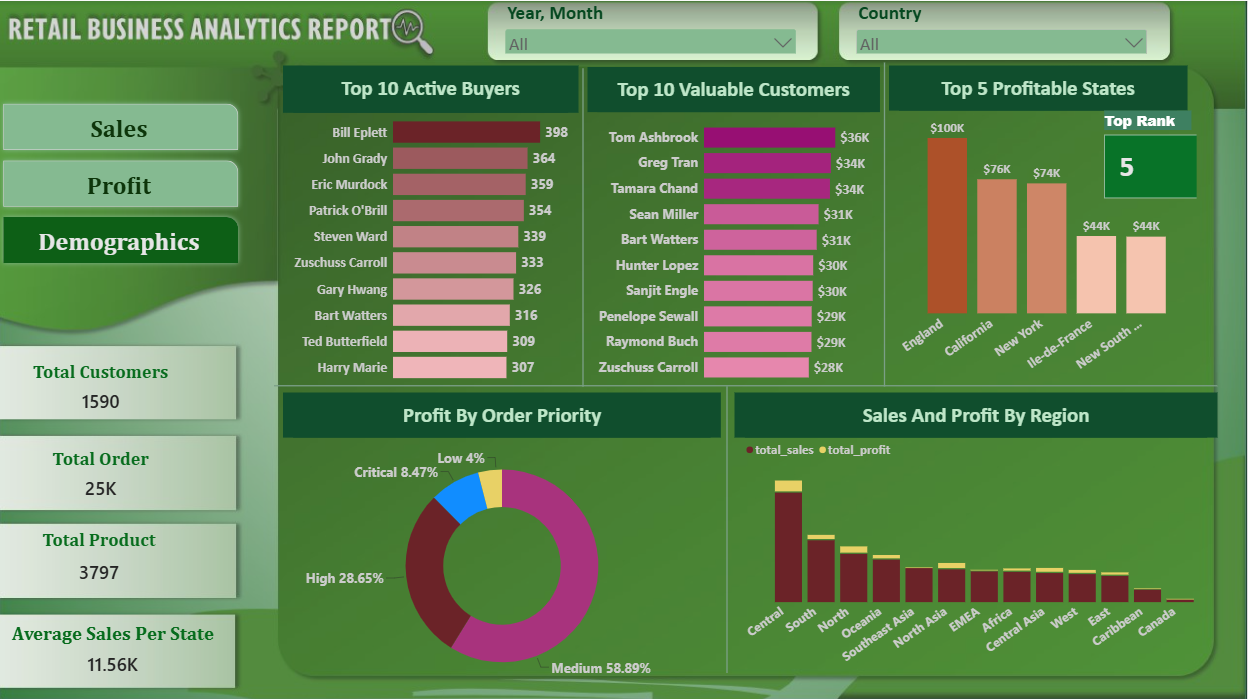

The dashboard page shown, as its layout file describes it:
{"tool":"powerbi","page":{"name":"Demographics","canvas":[1920,1080],"ordinal":2},"visuals":[{"type":"card","title":"Total Customers","fields":{"Values":["calculated_table.total_customers"]},"box":[2.4,540,311.1,106],"z":0},{"type":"card","title":"Total Order","fields":{"Values":["calculated_table.total_orders"]},"box":[2.4,672.6,311.1,106],"z":1000},{"type":"card","title":"Total Product","fields":{"Values":["calculated_table.total_product"]},"box":[0,798.2,310.3,116.1],"z":2000},{"type":"card","title":"Average Sales Per State","fields":{"Values":["calculated_table.avg_sales_per_state"]},"box":[2.3,940.2,348,108.3],"z":3000},{"type":"slicer","fields":{"Values":["Date_Table.Date.Variation.Date Hierarchy.Year","Date_Table.Date.Variation.Date Hierarchy.Month"]},"box":[774.3,0,456.4,80.9],"z":4000},{"type":"slicer","fields":{"Values":["location_table.Country"]},"box":[1313.5,0,456.4,80.9],"z":5000},{"type":"barChart","title":"Top 10 Valuable Customers","fields":{"Category":["customer_table.Customer Name"],"Y":["Sum(sales_table.Sales)"]},"box":[905.7,101.4,449.4,509.3],"z":6000},{"type":"clusteredColumnChart","fields":{"Category":["location_table.State"],"Y":["calculated_table.profit_rank_state"]},"box":[1368.8,99.1,458.6,497.8],"z":7000},{"type":"donutChart","title":"Profit By Order Priority","fields":{"Category":["sales_table.Order Priority"],"Y":["calculated_table.total_profit"]},"box":[437.8,600.7,672.9,479.3],"z":8000},{"type":"columnChart","title":"Sales And Profit By Region","fields":{"Category":["location_table.Region"],"Y":["calculated_table.total_sales","calculated_table.total_profit"]},"box":[1131.5,601.5,742,447.1],"z":9000},{"type":"clusteredBarChart","title":"Top 10 Active Buyers","fields":{"Category":["customer_table.Customer Name"],"Y":["Sum(sales_table.Quantity)"]},"box":[437.8,99.1,454,497.8],"z":10000},{"type":"shape","box":[424,530,1449.5,122.1],"z":11000},{"type":"shape","box":[719,103.7,359.5,488.5],"z":12000},{"type":"shape","box":[1182.2,94.5,359.5,497.8],"z":13000},{"type":"shape","box":[940.2,592.2,359.5,440.2],"z":14000},{"type":"pageNavigator","box":[0,149.8,377.9,262.7],"z":15000},{"type":"slicer","fields":{"Values":["Rank Demo.Rank Demo"]},"box":[1691.5,168.2,149.8,142.9],"z":16000}]}

Visuals, with their boxes in screenshot pixels (x1, y1, x2, y2), scaled from the page's 1920x1080 canvas onto the 1248x699 screenshot:
"Total Customers" card: box(2, 350, 204, 418)
"Total Order" card: box(2, 435, 204, 504)
"Total Product" card: box(0, 517, 202, 592)
"Average Sales Per State" card: box(1, 609, 228, 679)
slicer - Date_Table.Date.Variation.Date Hierarchy.Year x Date_Table.Date.Variation.Date Hierarchy.Month: box(503, 0, 800, 52)
slicer - location_table.Country: box(854, 0, 1150, 52)
"Top 10 Valuable Customers" barChart: box(589, 66, 881, 395)
clusteredColumnChart - location_table.State x calculated_table.profit_rank_state: box(890, 64, 1188, 386)
"Profit By Order Priority" donutChart: box(285, 389, 722, 698)
"Sales And Profit By Region" columnChart: box(735, 389, 1218, 679)
"Top 10 Active Buyers" clusteredBarChart: box(285, 64, 580, 386)
shape: box(276, 343, 1218, 422)
shape: box(467, 67, 701, 383)
shape: box(768, 61, 1002, 383)
shape: box(611, 383, 845, 668)
pageNavigator: box(0, 97, 246, 267)
slicer - Rank Demo.Rank Demo: box(1099, 109, 1197, 201)
